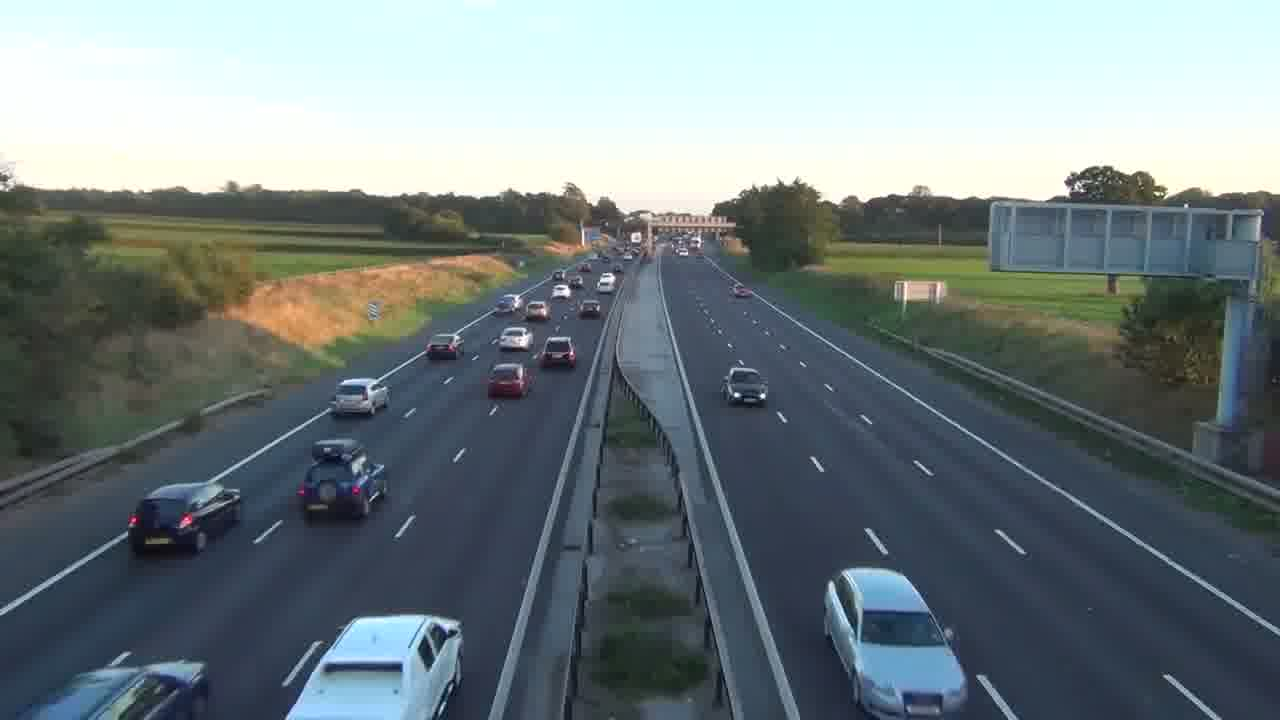car: (822, 565, 968, 717), (283, 612, 465, 718), (14, 652, 211, 719), (332, 378, 389, 417), (721, 365, 768, 407), (486, 362, 534, 399), (538, 335, 578, 369), (425, 332, 464, 360)
truck: (126, 480, 243, 555)
